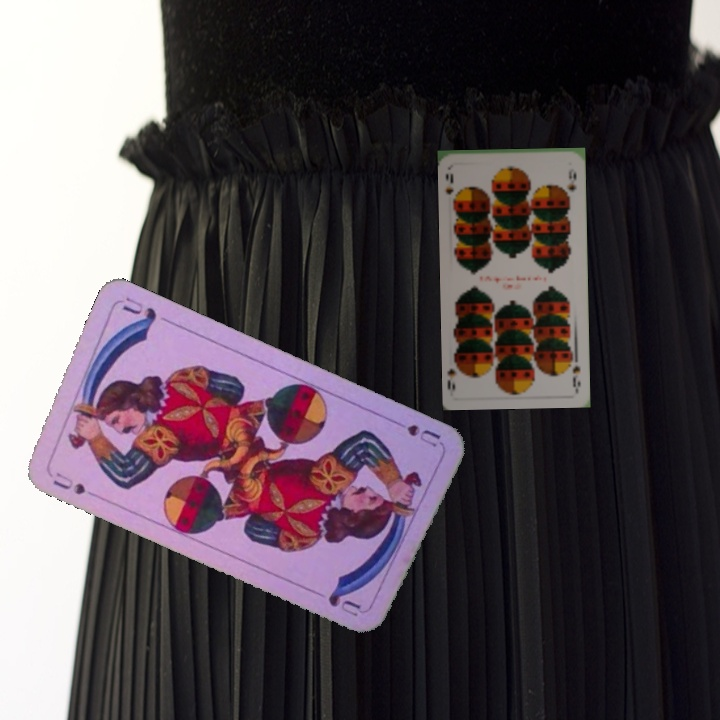S9: (442, 169, 461, 205), (568, 351, 583, 391)
SU: (386, 414, 443, 450), (48, 468, 89, 498)
